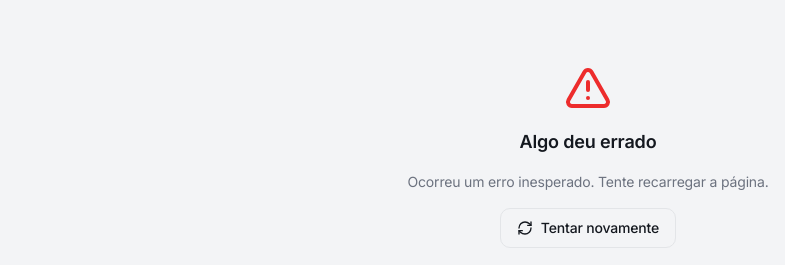
Test case: T4 ZONE-BOUNDARY — ErrorBoundary › handleReset — recuperação de erro › botão 'Tentar novamente' chama reset e limpa estado de erro
Check: the heading "Algo deu errado" is shown, box [520, 128, 656, 156]
Click the button "Tentar novamente" at (588, 228), box [500, 208, 676, 248]
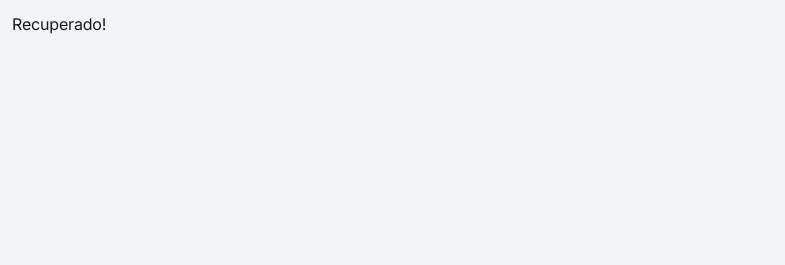
Check: the heading "Algo deu errado" is gone
